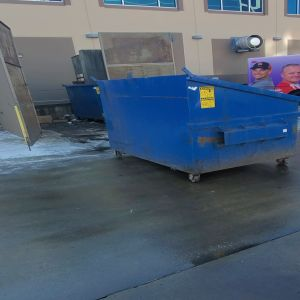Dumpster: (98, 87, 295, 182), (62, 83, 110, 125)
Person: (249, 61, 274, 88), (279, 63, 300, 90)
